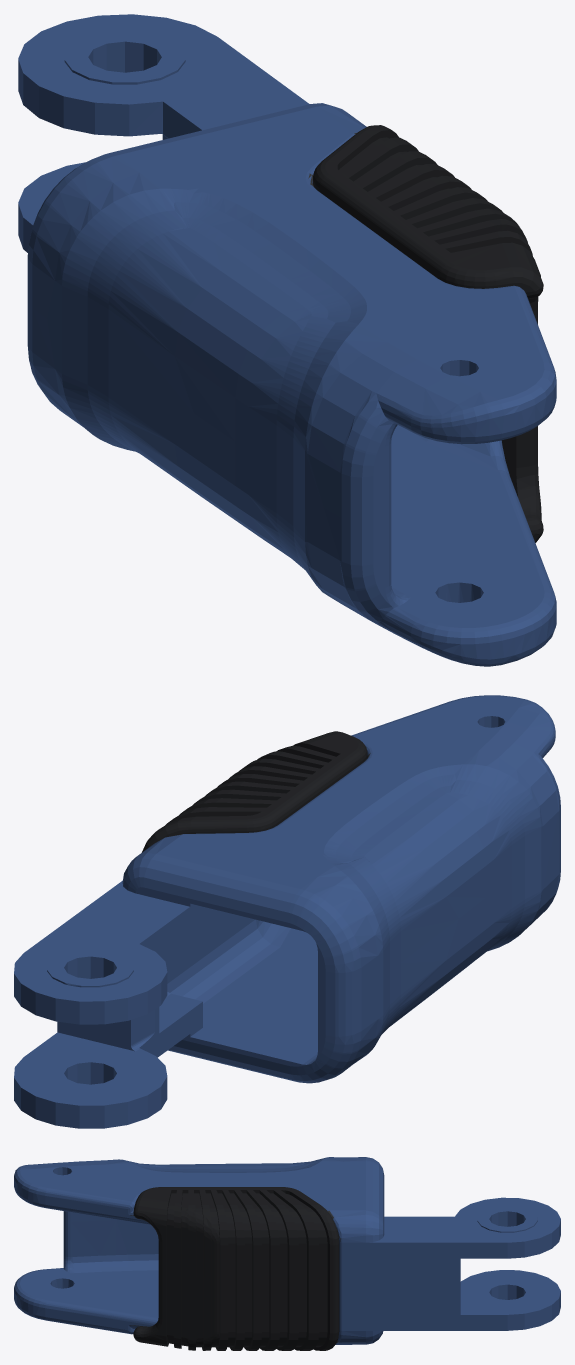
The model's file is rh_pinky_proximal_vis.obj.
3 renders of one model, top to bottom at view 1: azimuth 30°, elevation 25°; view 2: azimuth 150°, elevation 25°; view 3: azimuth 270°, elevation 25°, orthographic. The views are drawn at different scales.
Visible parts, largest first — view 1: rh_pinky_proximal; view 2: rh_pinky_proximal; view 3: rh_pinky_proximal.
Part boxes in pixels (left/top/right/bottom): rh_pinky_proximal: left=18, top=14, right=556, bottom=666; rh_pinky_proximal: left=14, top=695, right=560, bottom=1128; rh_pinky_proximal: left=14, top=1157, right=560, bottom=1350.
Bounding box in the file's own units: 0.016 × 0.013 × 0.045.
1 material, 1 textured.
